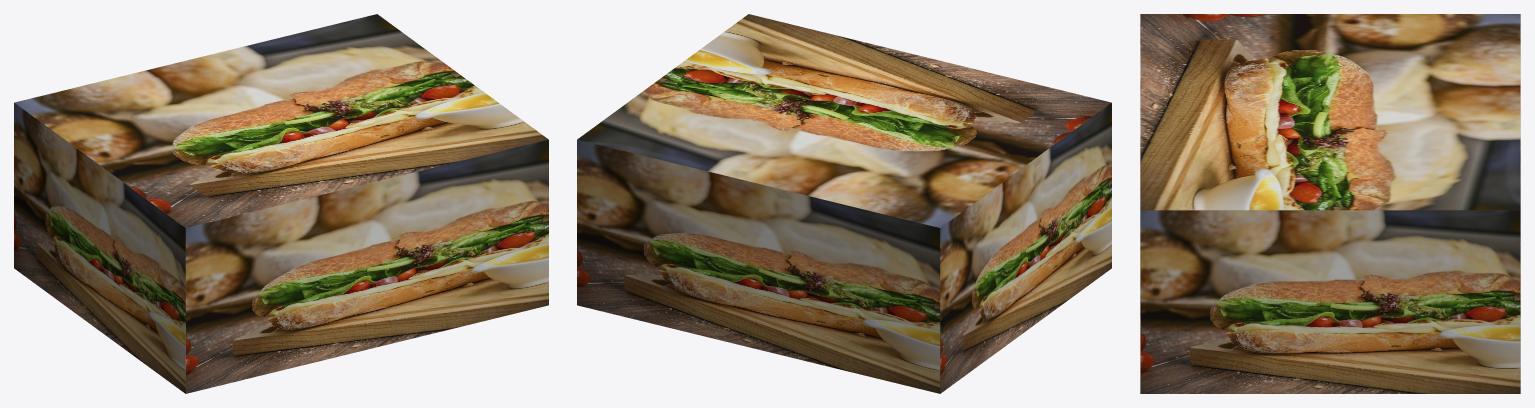
File: p6-puff.glb
The picture shows the model from 3 angles, left to right: view 1: azimuth 30°, elevation 25°; view 2: azimuth 150°, elevation 25°; view 3: azimuth 270°, elevation 25°; orthographic projection. The views are drawn at different scales.
Bounding box in the file's own units: 1.65 × 0.72 × 1.35.
Materials: 1 (1 with a texture image).
